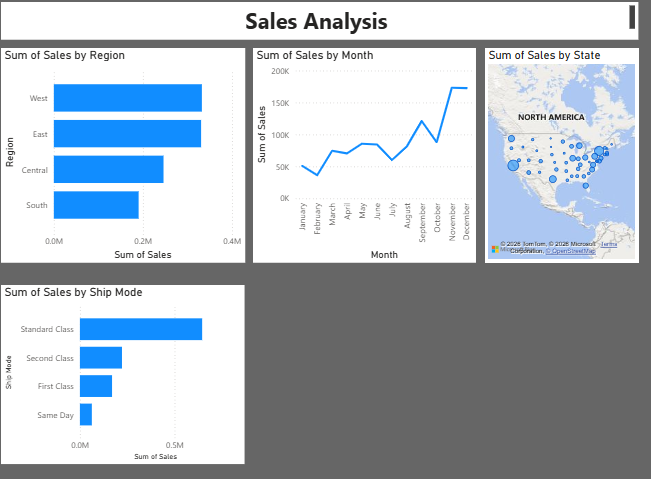

What the dashboard file says about the page in this screenshot:
{"tool":"powerbi","page":{"name":"Sales Analysis","canvas":[960,720],"ordinal":1},"visuals":[{"type":"clusteredBarChart","fields":{"Y":["Sum(Sample - Superstore.Sales)"],"Category":["Sample - Superstore.Region"]},"box":[8.7,83.1,355.6,313.4],"z":0},{"type":"lineChart","fields":{"Category":["Sample - Superstore.Order Date.Variation.Date Hierarchy.Month"],"Y":["Sum(Sample - Superstore.Sales)"]},"box":[376,83.1,325,313.4],"z":1},{"type":"map","fields":{"Category":["Sample - Superstore.State"],"Size":["Sum(Sample - Superstore.Sales)"]},"box":[714.2,83.1,223,313.4],"z":2},{"type":"clusteredBarChart","fields":{"Category":["Sample - Superstore.Ship Mode"],"Y":["Sum(Sample - Superstore.Sales)"]},"box":[9,428.3,354.9,260.6],"z":3},{"type":"textbox","box":[9,16.5,928.5,55.4],"z":4}]}

Visuals, with their boxes in screenshot pixels (x1, y1, x2, y2), scaled from the page's 960x720 canvas onto the 651x479 screenshot:
clusteredBarChart - Sum(Sample - Superstore.Sales) x Sample - Superstore.Region: [6,55,247,264]
lineChart - Sample - Superstore.Order Date.Variation.Date Hierarchy.Month x Sum(Sample - Superstore.Sales): [255,55,475,264]
map - Sample - Superstore.State x Sum(Sample - Superstore.Sales): [484,55,636,264]
clusteredBarChart - Sample - Superstore.Ship Mode x Sum(Sample - Superstore.Sales): [6,285,247,458]
textbox: [6,11,636,48]
